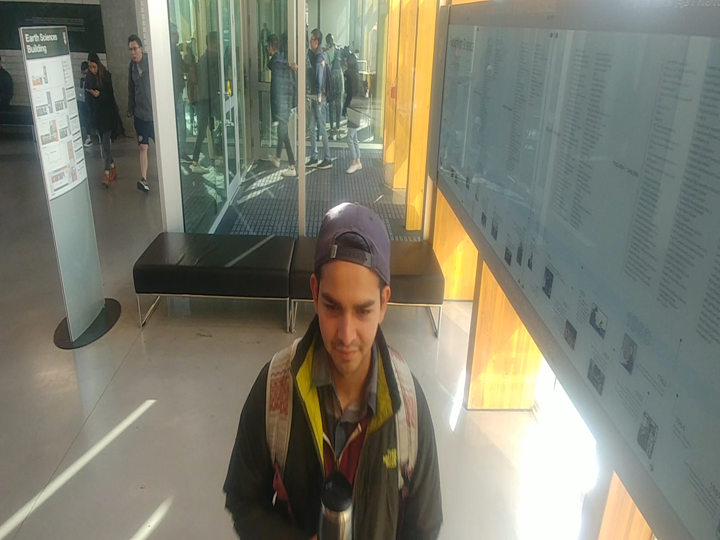face: (300, 193, 398, 383), (123, 30, 150, 68), (82, 47, 107, 78), (262, 30, 285, 61), (341, 47, 363, 78), (305, 25, 327, 54)
human: (205, 195, 454, 540), (79, 46, 125, 194), (119, 30, 159, 197), (258, 27, 300, 182), (337, 46, 375, 176), (305, 25, 335, 174)
